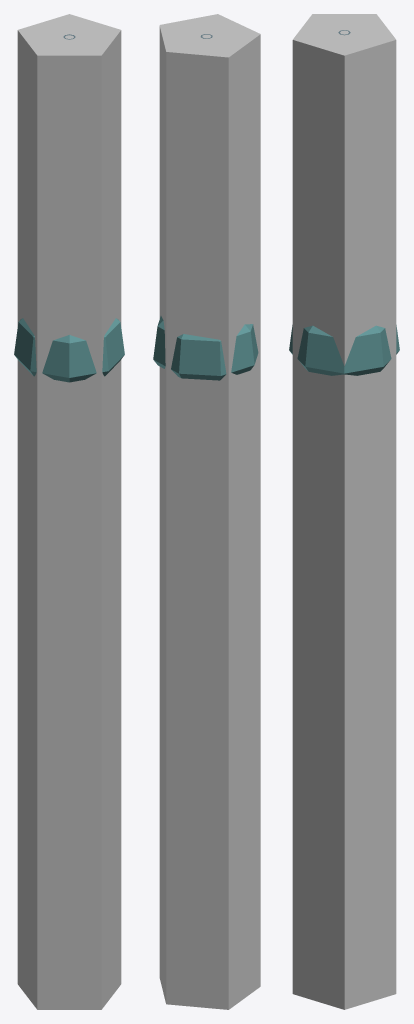
File: SM_Satellite_05.fbx
3 renders of one model, left to right at view 1: azimuth 90°, elevation 25°; view 2: azimuth 150°, elevation 25°; view 3: azimuth 270°, elevation 25°, orthographic.
Visible parts, largest first — view 1: SM_Satellite_05_ConvexHulls, SM_Satellite_05; view 2: SM_Satellite_05_ConvexHulls, SM_Satellite_05; view 3: SM_Satellite_05_ConvexHulls, SM_Satellite_05.
Part boxes in pixels (x1,y1,x2,y2): SM_Satellite_05_ConvexHulls: [17, 14, 121, 1009]; SM_Satellite_05: [14, 34, 124, 382]; SM_Satellite_05_ConvexHulls: [159, 14, 260, 1009]; SM_Satellite_05: [153, 34, 258, 380]; SM_Satellite_05_ConvexHulls: [292, 14, 396, 1009]; SM_Satellite_05: [289, 30, 399, 375].
Bounding box in the file's own units: 67 × 67 × 636.
